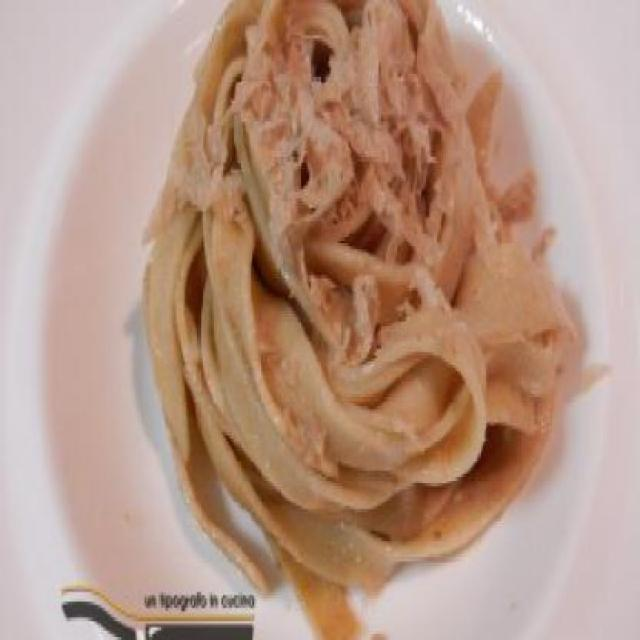Oil pasta: (156, 9, 580, 605)
